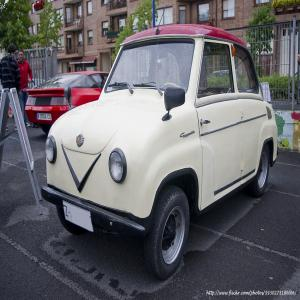Vehicle-registration-plate: (64, 201, 94, 233), (38, 113, 52, 121)
